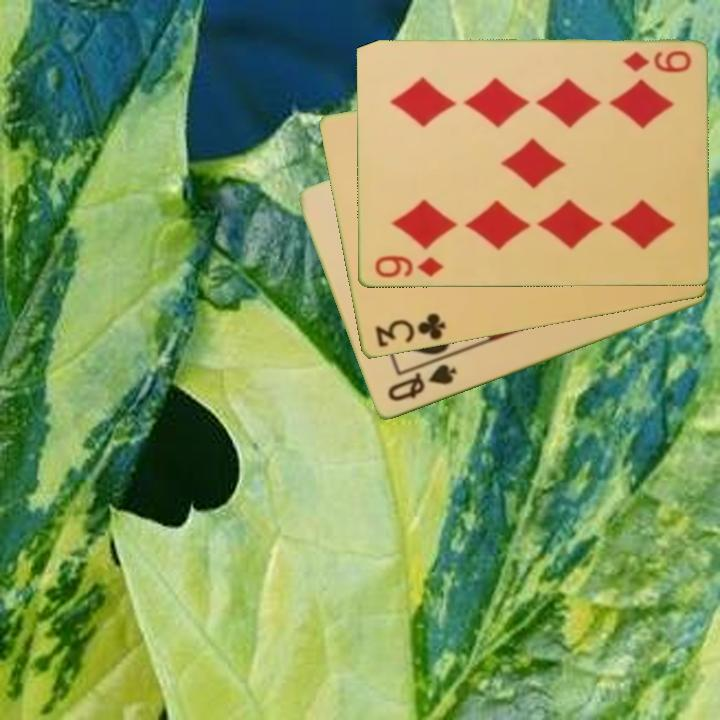3c: (371, 310, 448, 351)
9d: (371, 252, 446, 281), (619, 47, 694, 76)
Qs: (383, 361, 459, 405)
